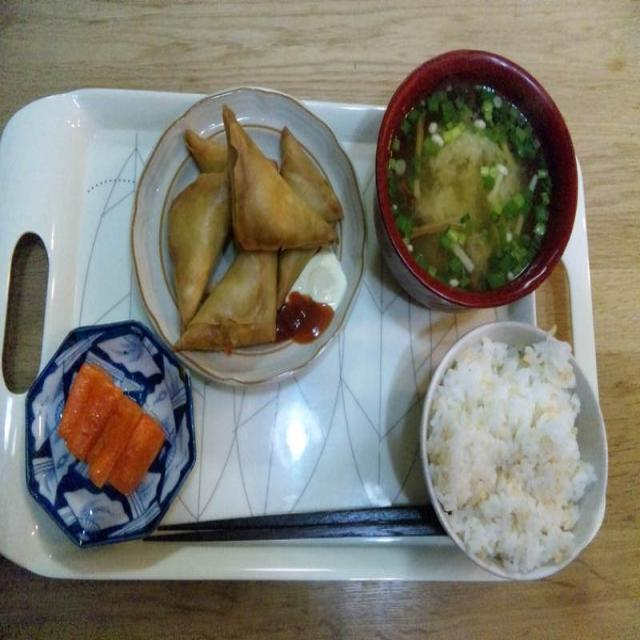Rice: (416, 318, 614, 600)
